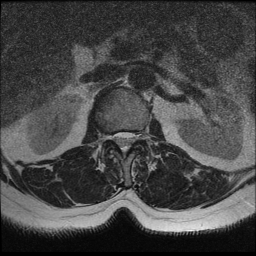CCS_normal: (121, 125, 127, 163)
LFS_normal: (135, 124, 143, 147)
LLS_normal: (127, 126, 135, 153)
RFS_stenosis: (105, 126, 113, 149)
RLS_normal: (113, 127, 121, 151)
